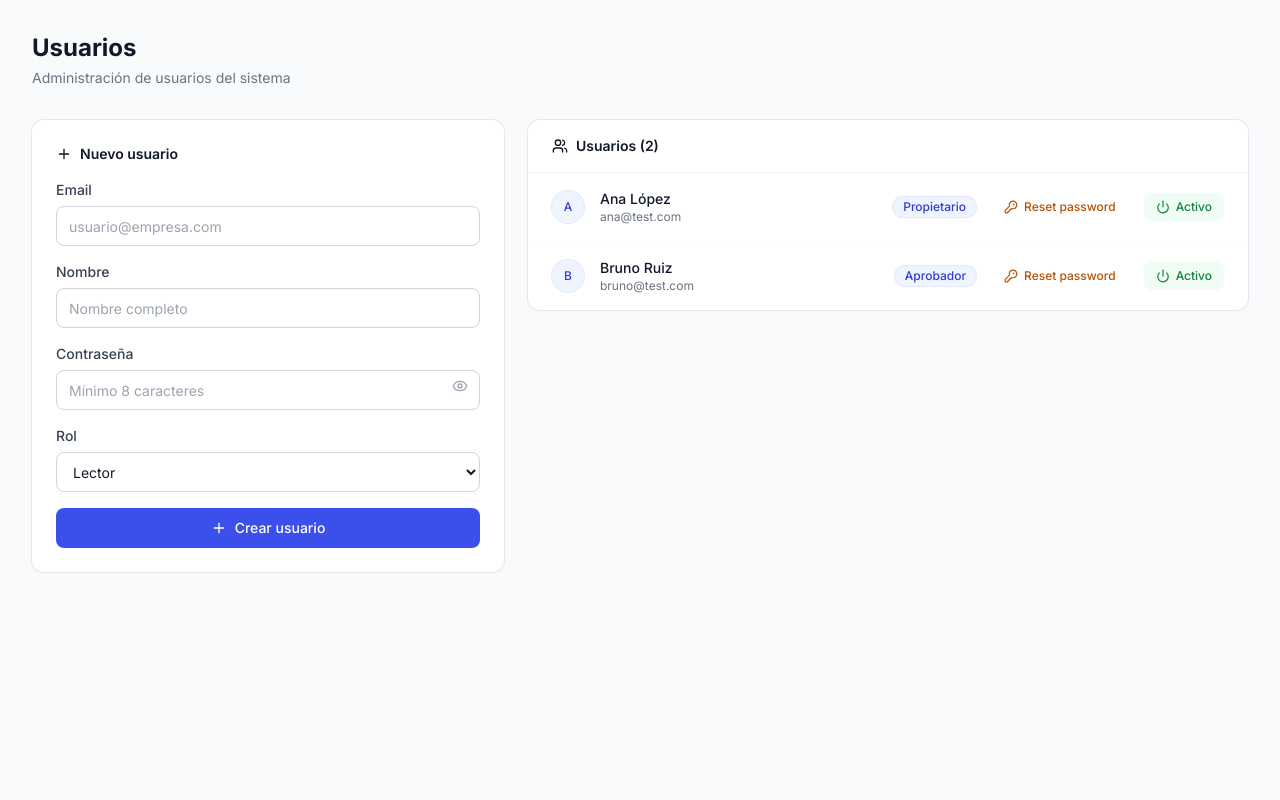
Test: UsersPage › cierra modal al hacer clic en Cerrar tras reset exitoso
Expected: the text "Ana López" is shown, x1=600 y1=190 x2=671 y2=207
Click the button "Reset password" in the row of "Ana López" at [1060, 207], box x1=992 y1=193 x2=1128 y2=221
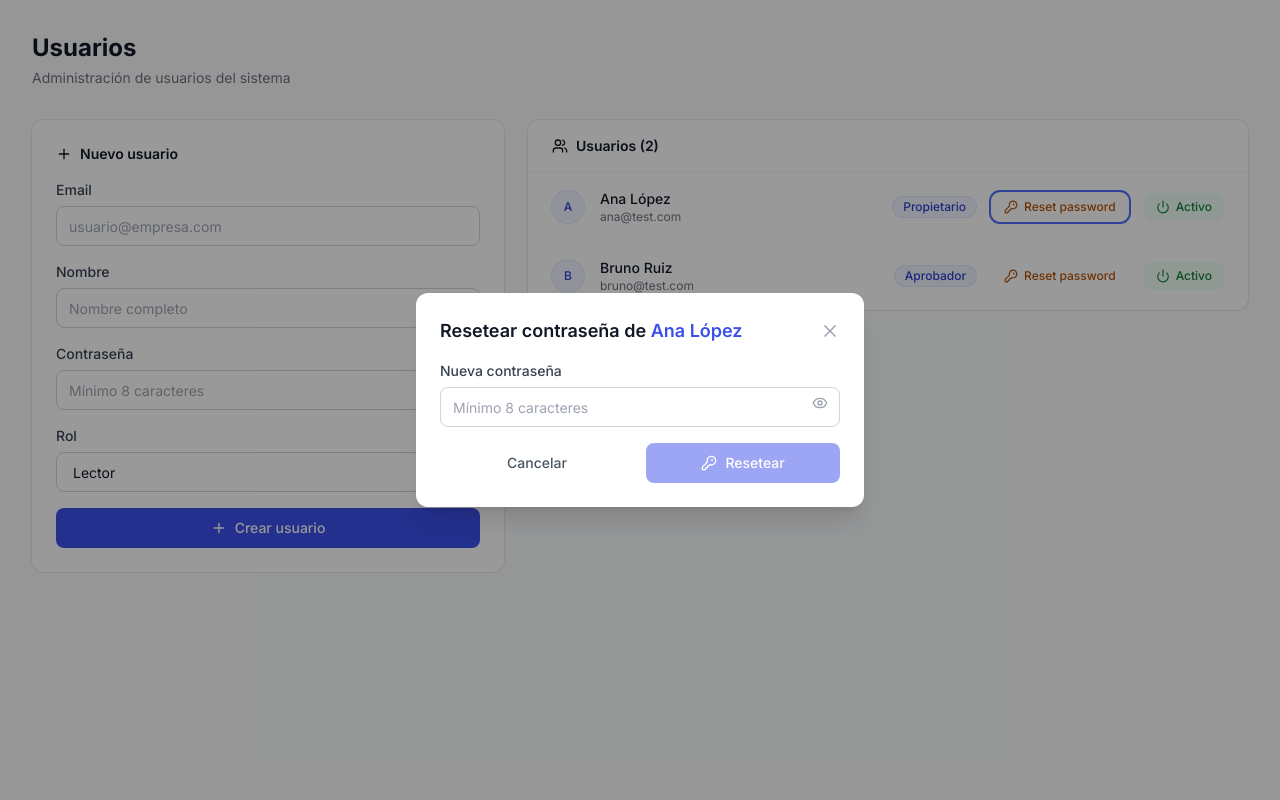
Type "newPass123" into the password field labelled "Nueva contraseña" at [640, 407], box x1=440 y1=387 x2=840 y2=427
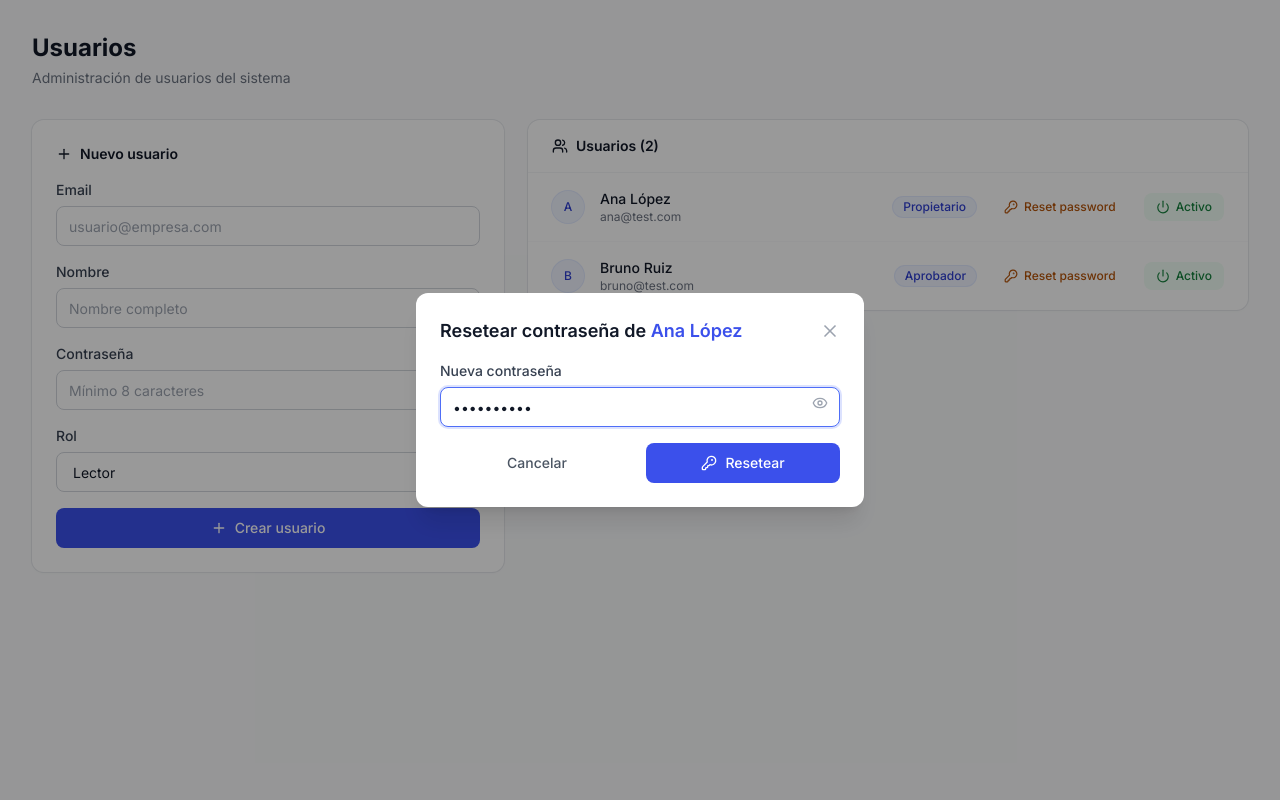
Click the button "Resetear" at [743, 463], box x1=646 y1=443 x2=840 y2=483
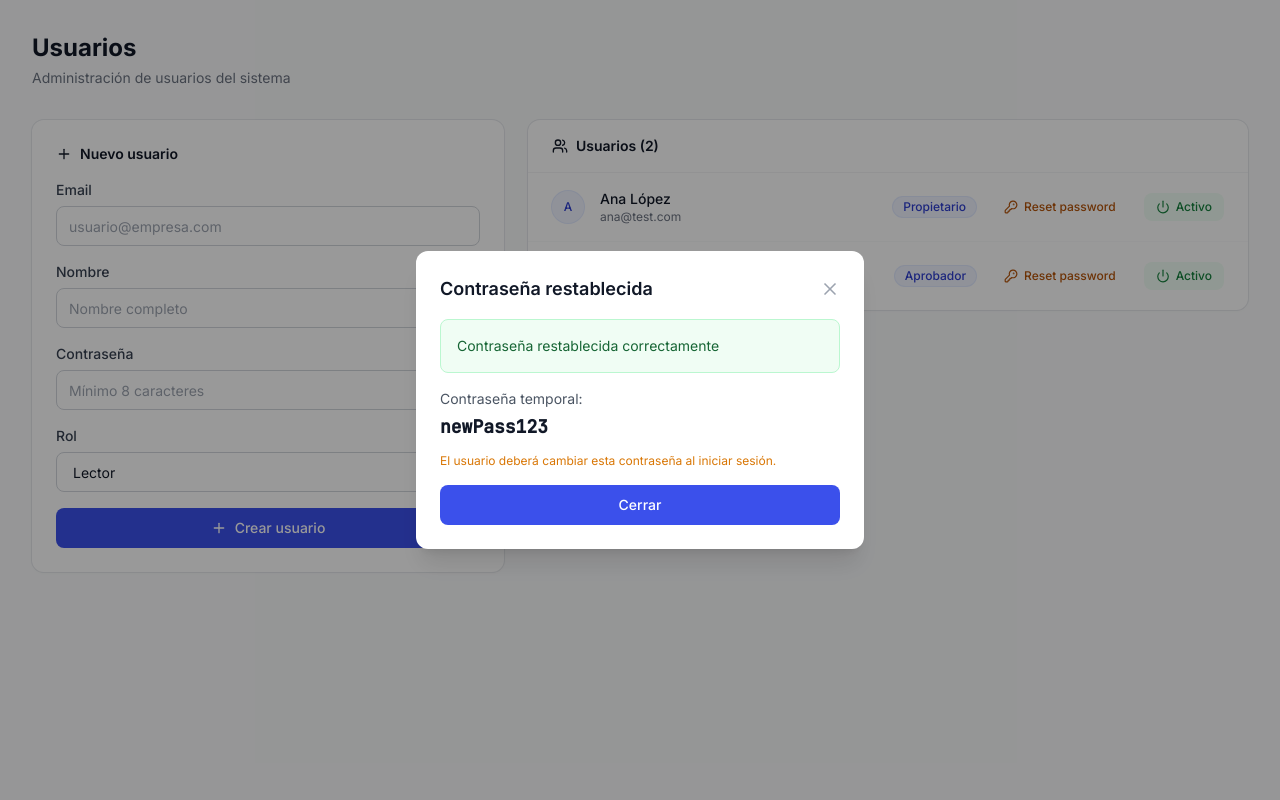
Expected: the text "Contraseña restablecida correctamente" is shown, x1=440 y1=319 x2=840 y2=373
Click the button "Cerrar" at [640, 505], box x1=440 y1=485 x2=840 y2=525
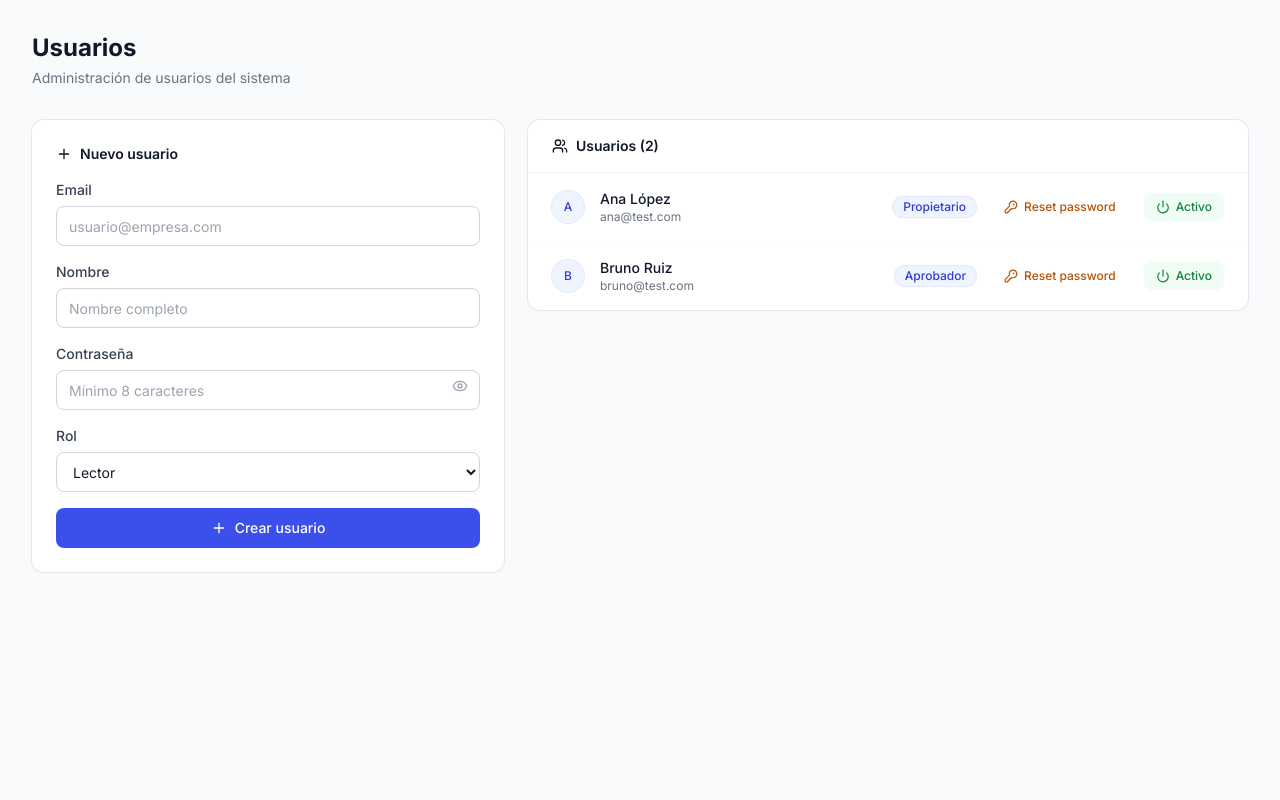
Expected: the text "Contraseña restablecida correctamente" is gone
